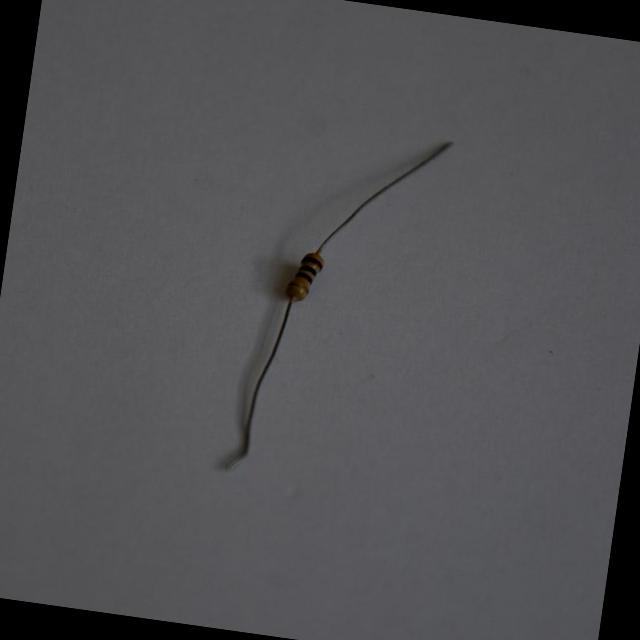Resistor: (287, 252, 324, 301)
black: (297, 266, 315, 277)
brown: (298, 255, 322, 270), (295, 272, 310, 285)
gold: (284, 282, 306, 293)
